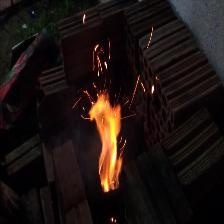fire: (82, 67, 136, 190)
